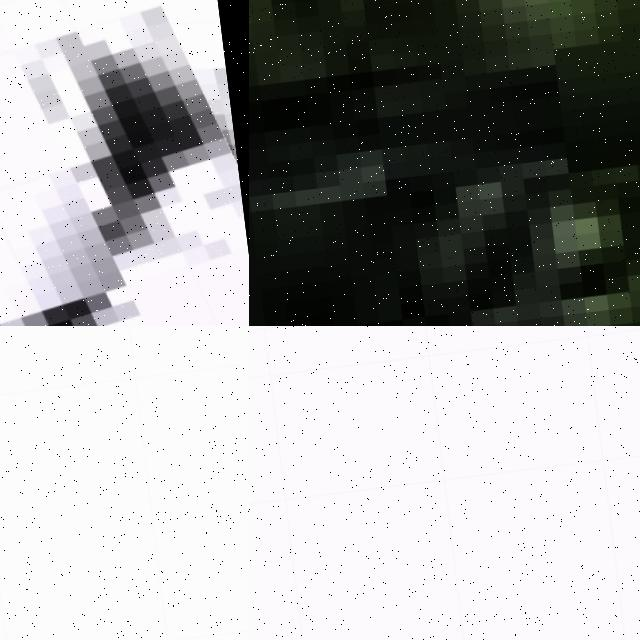drone: (0, 0, 249, 326)
